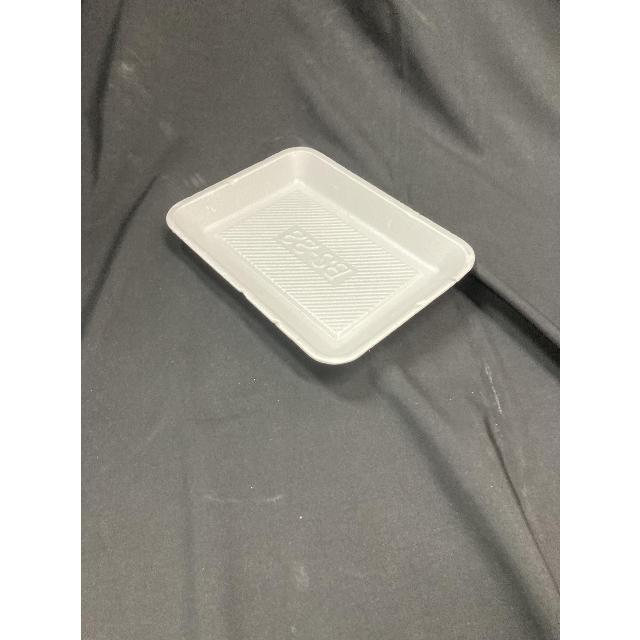Recipiente plastico: (166, 148, 474, 363)
